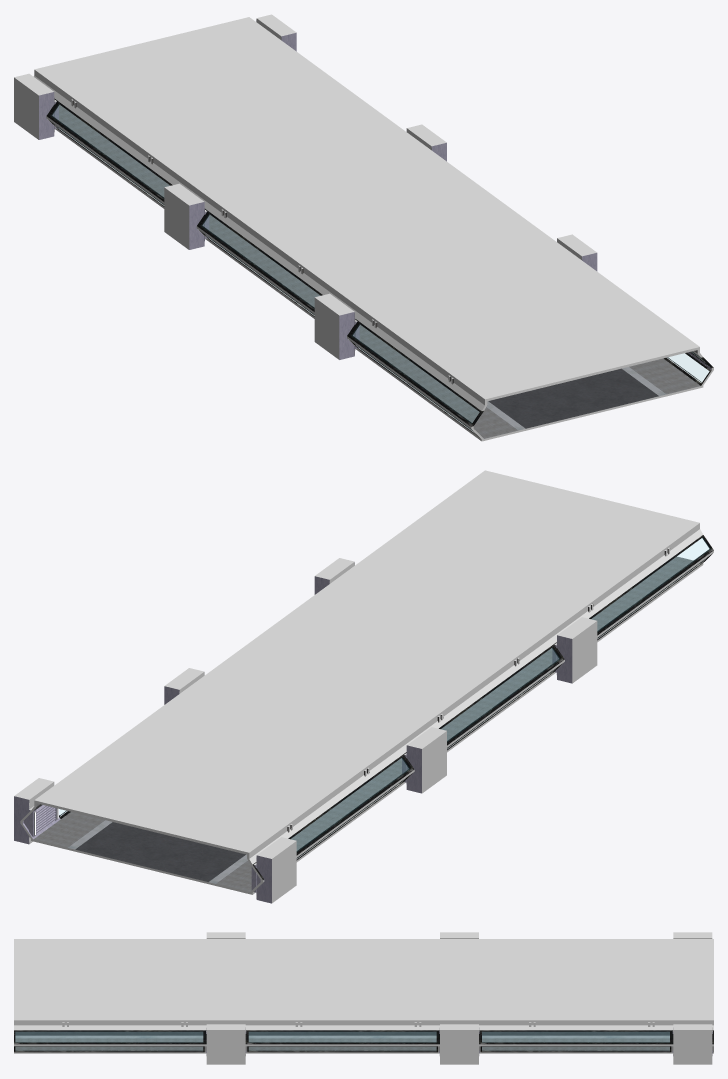
Rendered from sci-fi__future_tunnel-transformed.glb.
3 renders of one model, top to bottom at view 1: azimuth 30°, elevation 25°; view 2: azimuth 150°, elevation 25°; view 3: azimuth 270°, elevation 25°, orthographic. The views are drawn at different scales.
Visible parts, largest first — view 1: Cube_Main_0, Cube_Rand_0, Cube_Asphalt_0, Cube_Ganzstein Schwarz_0, Cube_Metall Dunkelbalu_0; view 2: Cube_Main_0, Cube_Rand_0, Cube_Asphalt_0, Cube_Ganzstein Schwarz_0, Cube_Metall Dunkelbalu_0; view 3: Cube_Main_0, Cube_Rand_0, Cube_Ganzstein Schwarz_0, Cube_Asphalt_0, Cube_Streifen_0.
Part boxes in pixels (x1,y1,x2,y2): Cube_Main_0: (14,14,713,441); Cube_Rand_0: (59,105,700,438); Cube_Asphalt_0: (488,368,658,428); Cube_Ganzstein Schwarz_0: (46,99,713,438); Cube_Metall Dunkelbalu_0: (39,32,711,370); Cube_Main_0: (14,470,713,903); Cube_Rand_0: (33,556,693,892); Cube_Asphalt_0: (75,822,245,881); Cube_Ganzstein Schwarz_0: (59,535,713,879); Cube_Metall Dunkelbalu_0: (14,576,572,903); Cube_Main_0: (14,932,713,1064); Cube_Rand_0: (15,1038,669,1051); Cube_Ganzstein Schwarz_0: (14,1030,713,1052); Cube_Asphalt_0: (15,1031,669,1035); Cube_Streifen_0: (15,1035,669,1038).
Bounding box in the file's own units: 23.44 × 4.03 × 71.
12 materials, 10 textured.
